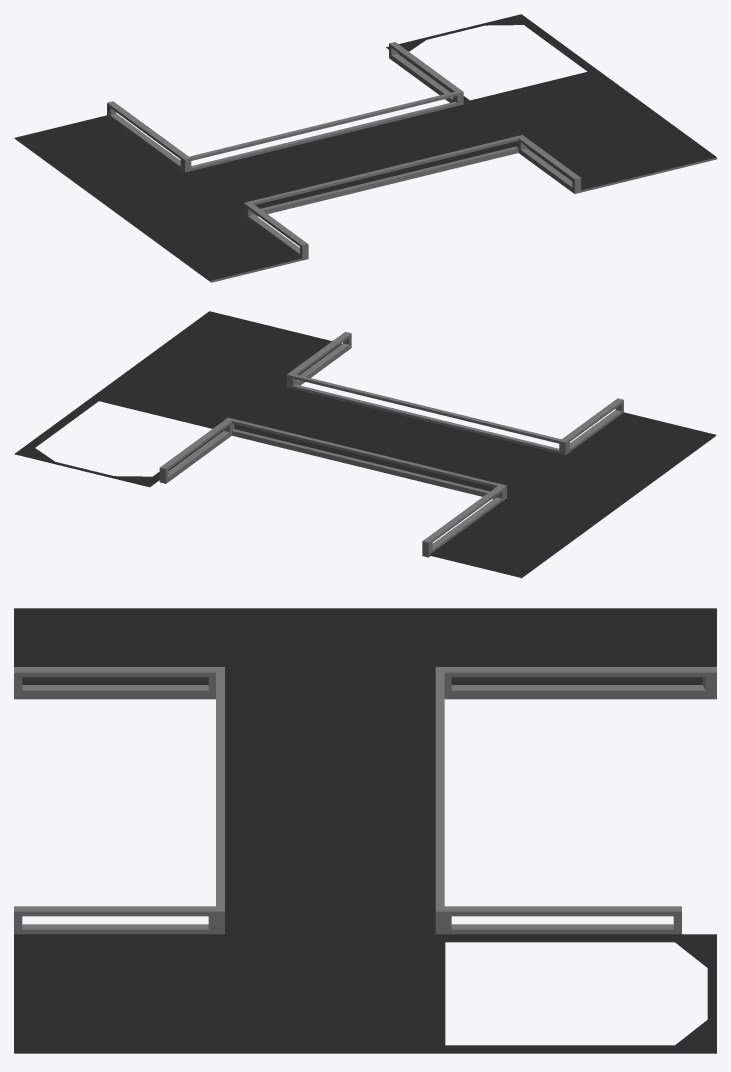
The model's file is Engineering_Catwalk.fbx.
3 renders of one model, top to bottom at view 1: azimuth 30°, elevation 25°; view 2: azimuth 150°, elevation 25°; view 3: azimuth 270°, elevation 25°, orthographic. The views are drawn at different scales.
Visible parts, largest first — view 1: Engineering_Catwalk; view 2: Engineering_Catwalk; view 3: Engineering_Catwalk.
Part boxes in pixels (<box>): Engineering_Catwalk: <box>14,14,716,282</box>; Engineering_Catwalk: <box>14,311,716,578</box>; Engineering_Catwalk: <box>14,608,716,1053</box>.
Bounding box in the file's own units: 5997 × 167 × 4000.
